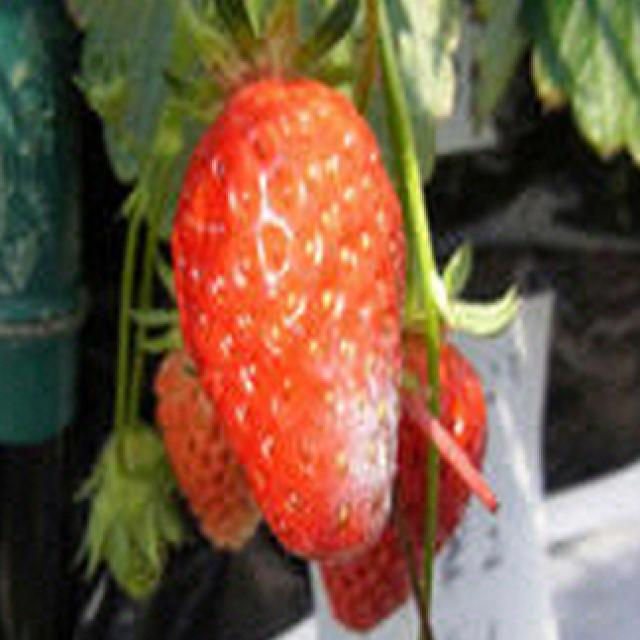Powdery Mildew Fruit: (298, 317, 403, 560)
